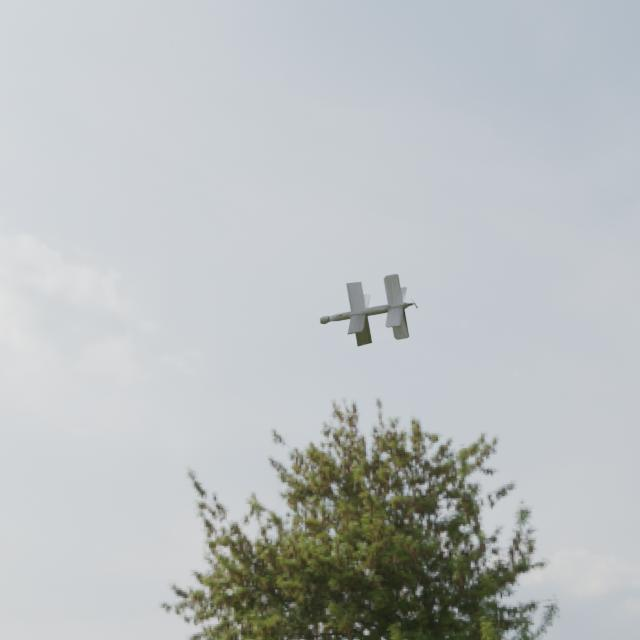Airaplan: (320, 274, 418, 347)
